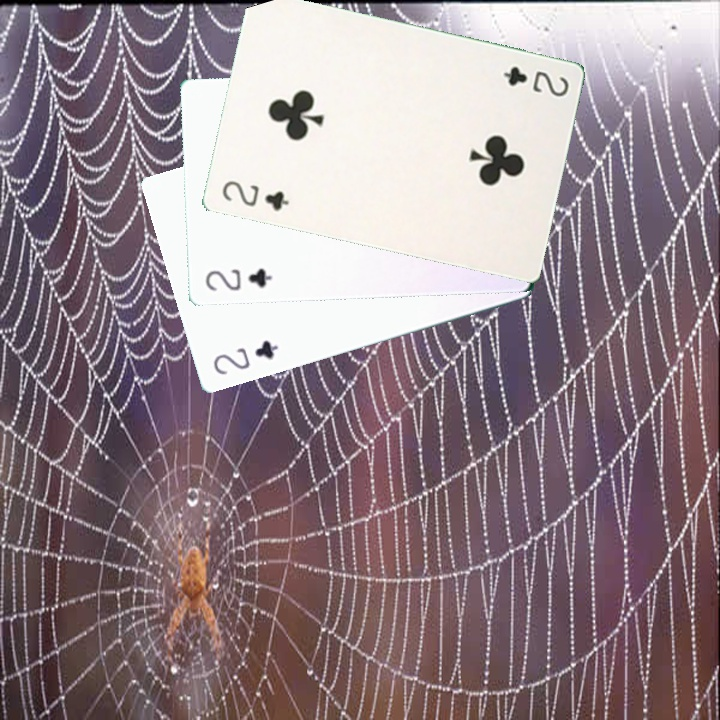2c: (209, 336, 281, 378), (218, 176, 292, 214), (500, 62, 572, 100), (201, 264, 275, 293)
